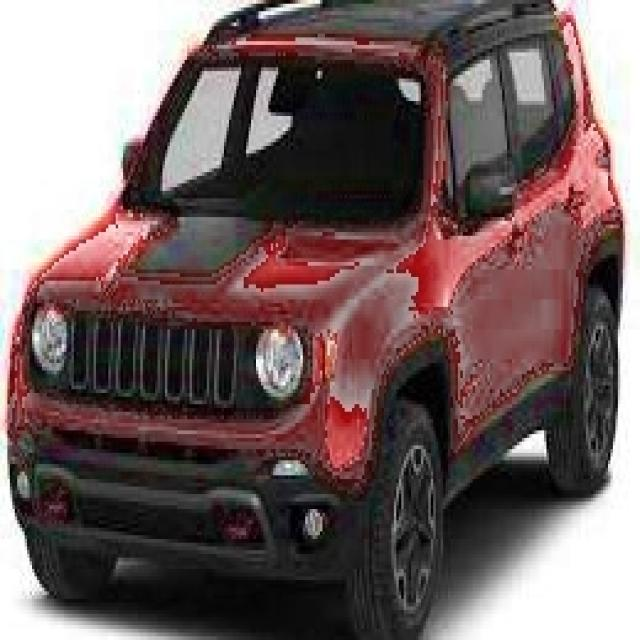maroon: (18, 11, 610, 524)
